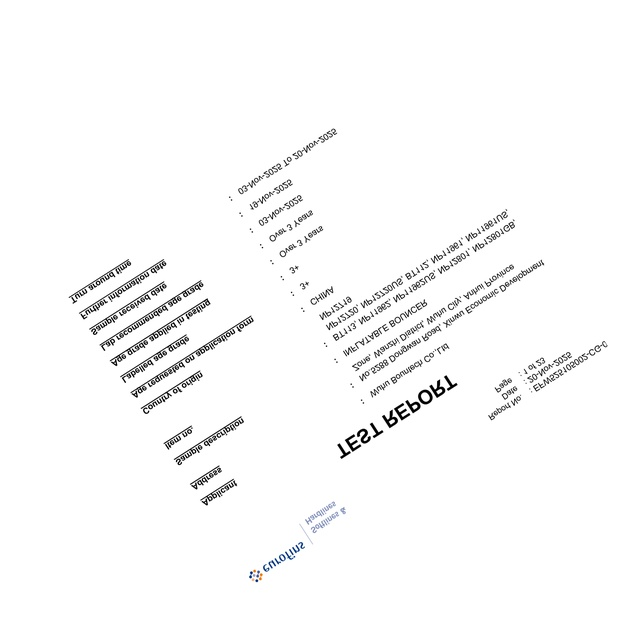eurofins: (242, 534, 307, 590)
